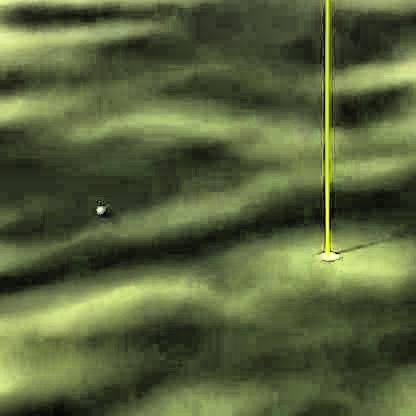golfball: (93, 204, 104, 214)
